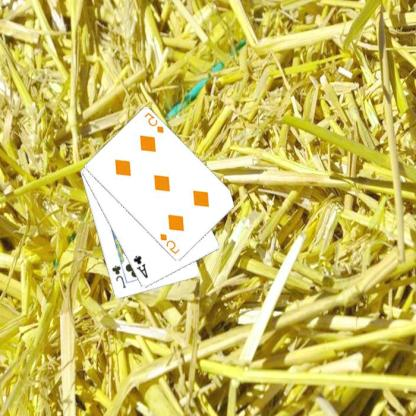5D: (159, 231, 183, 256), (143, 110, 167, 135)
AC: (132, 253, 151, 280)
JC: (110, 263, 129, 290)
